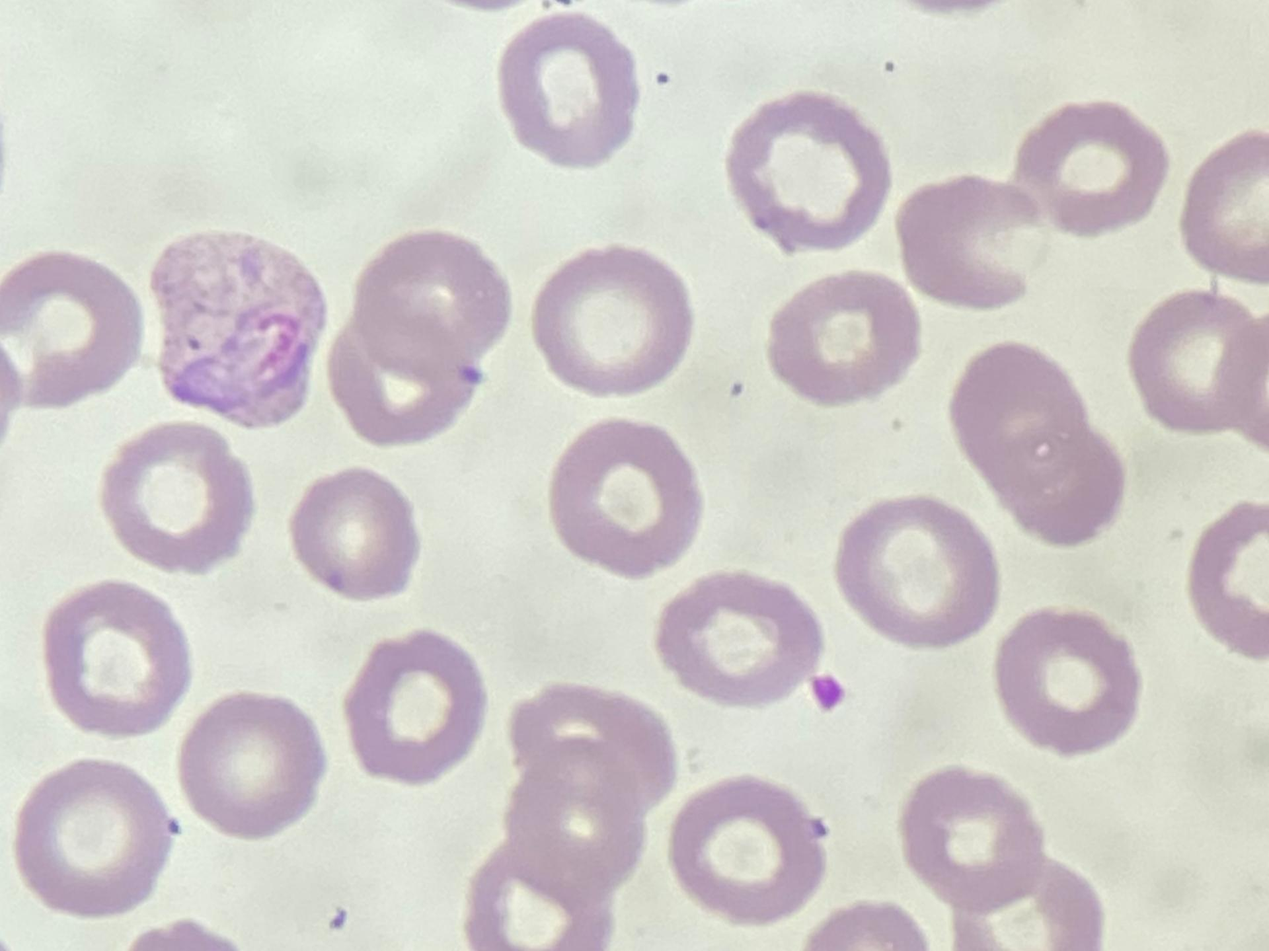Infected: (151, 231, 326, 424)
Uninfected: (333, 230, 512, 437), (950, 344, 1120, 545), (726, 91, 892, 248), (535, 241, 695, 398), (14, 760, 171, 915), (547, 420, 701, 576), (836, 498, 997, 647), (40, 580, 190, 738), (100, 421, 253, 573), (654, 570, 821, 707), (668, 778, 826, 922), (1, 251, 145, 408), (344, 632, 490, 784), (494, 759, 648, 903), (498, 12, 640, 166), (995, 608, 1141, 755), (901, 769, 1048, 914), (176, 694, 323, 837), (767, 272, 924, 405), (508, 684, 669, 811), (1128, 289, 1262, 440), (1017, 102, 1168, 235), (897, 176, 1046, 309), (289, 470, 418, 599), (468, 847, 625, 951), (1184, 130, 1267, 278)
